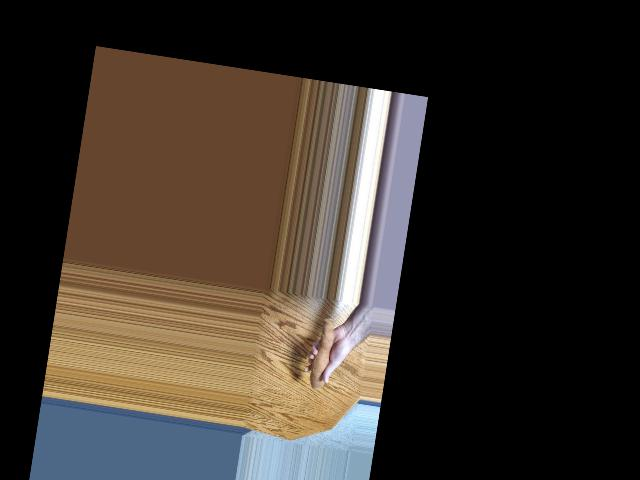sweet_potato: (305, 313, 345, 397)
